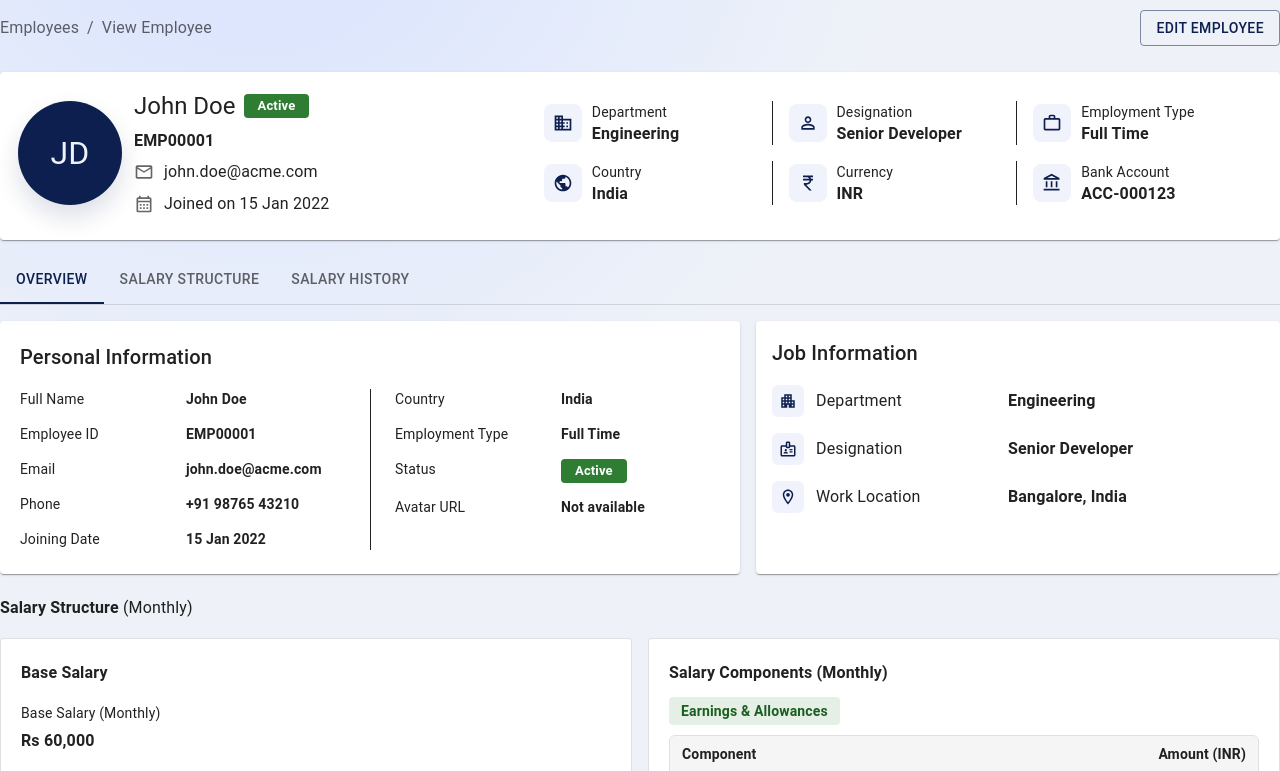
EmployeeDetailsPage › renders employee profile, overview details, and tab content from the API
Expected: the heading "John Doe" is shown, [134,90,236,122]
Expected: the button "Edit Employee" is shown, [1140,10,1279,46]
Click the tab "Salary Structure".
click(189, 280)  # box [104,256,275,304]
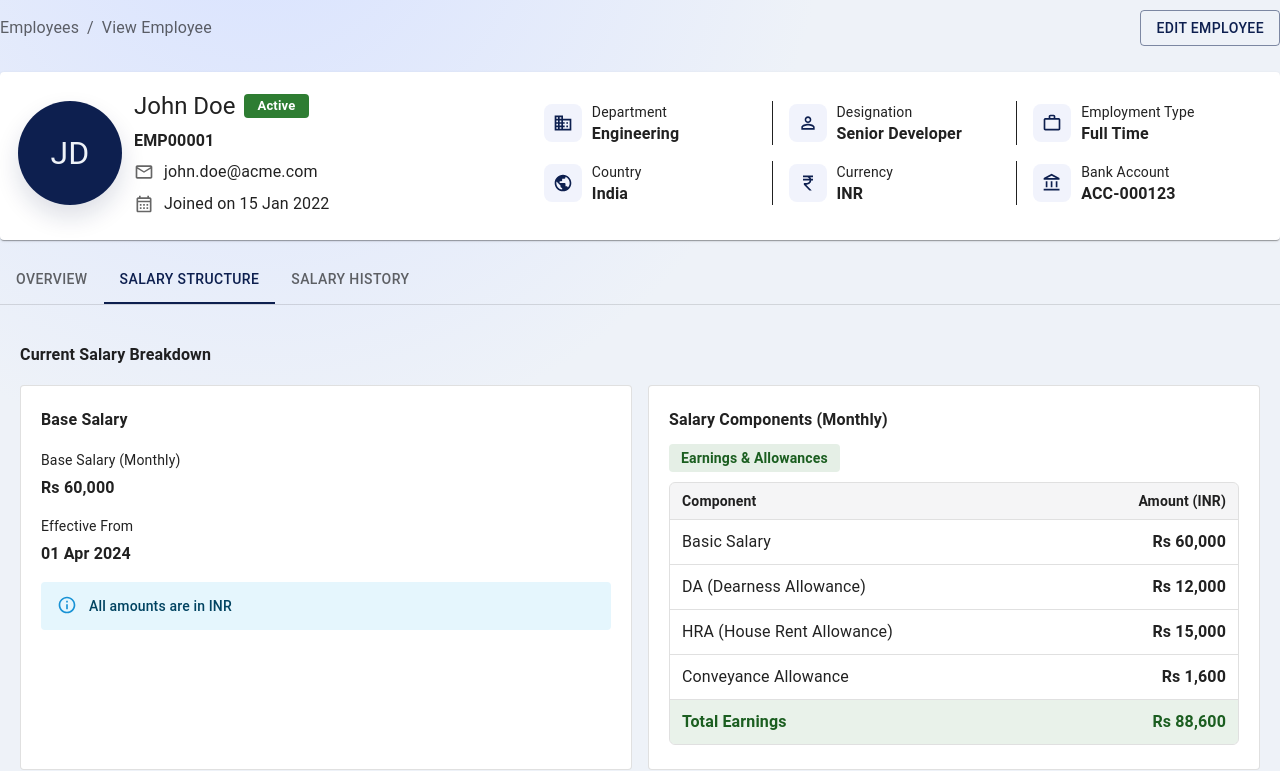
Expected: the heading "John Doe" is shown, [134,90,236,122]
Now the heading "Current Salary Breakdown" is shown, box [20,345,211,364]
Click the tab "Salary History".
click(350, 280)  # box [275,256,425,304]
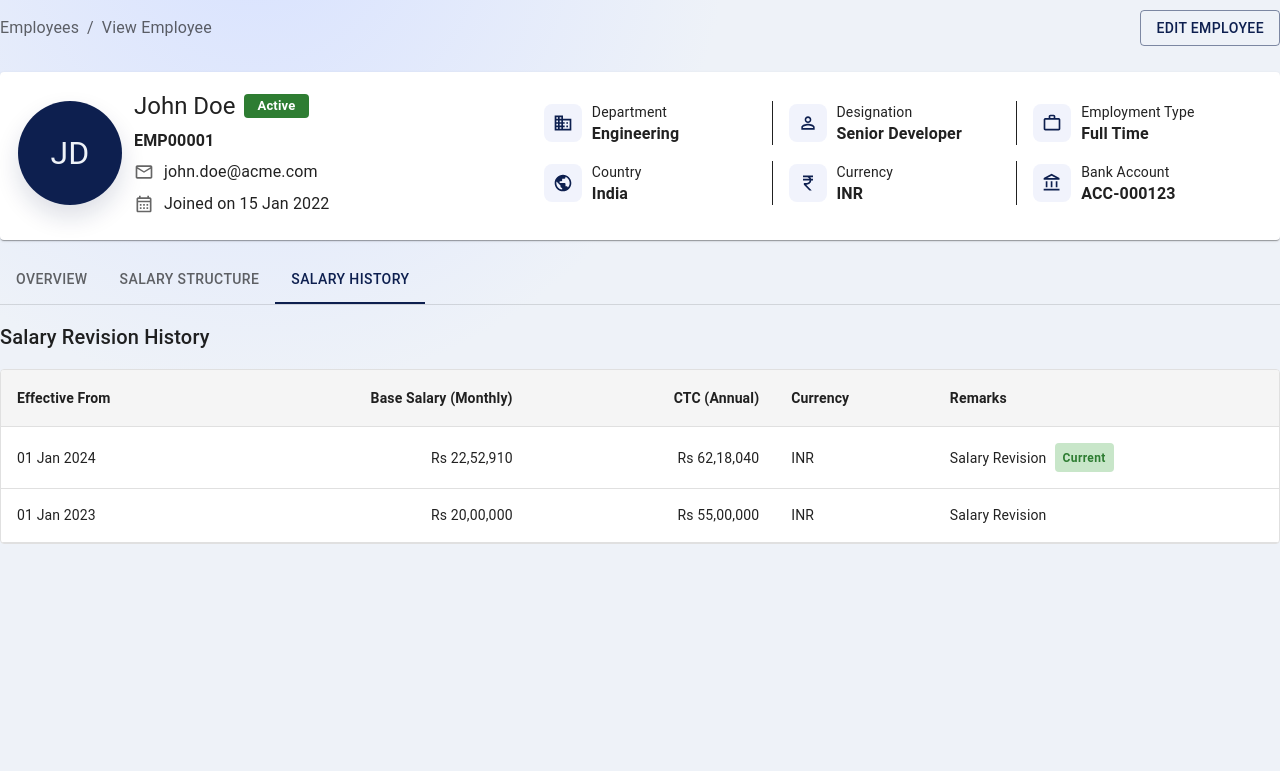
Expected: the heading "John Doe" is shown, [134,90,236,122]
Now the heading "Salary Revision History" is shown, box [0,325,210,349]
